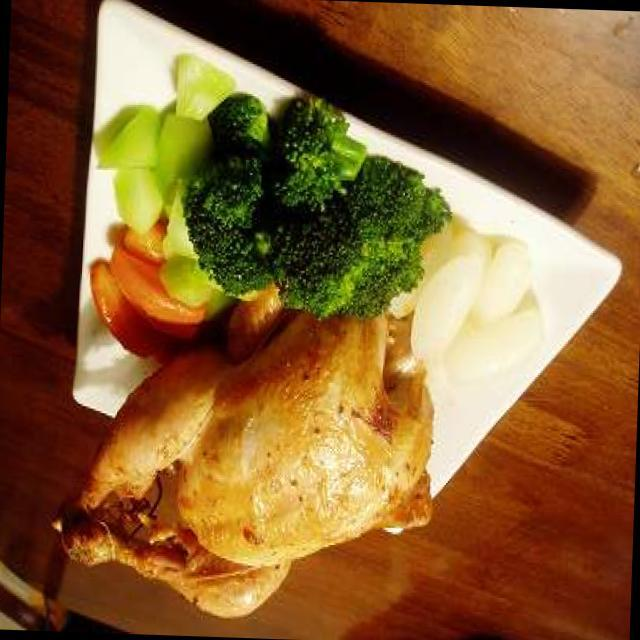Chicken: (46, 309, 446, 636)
